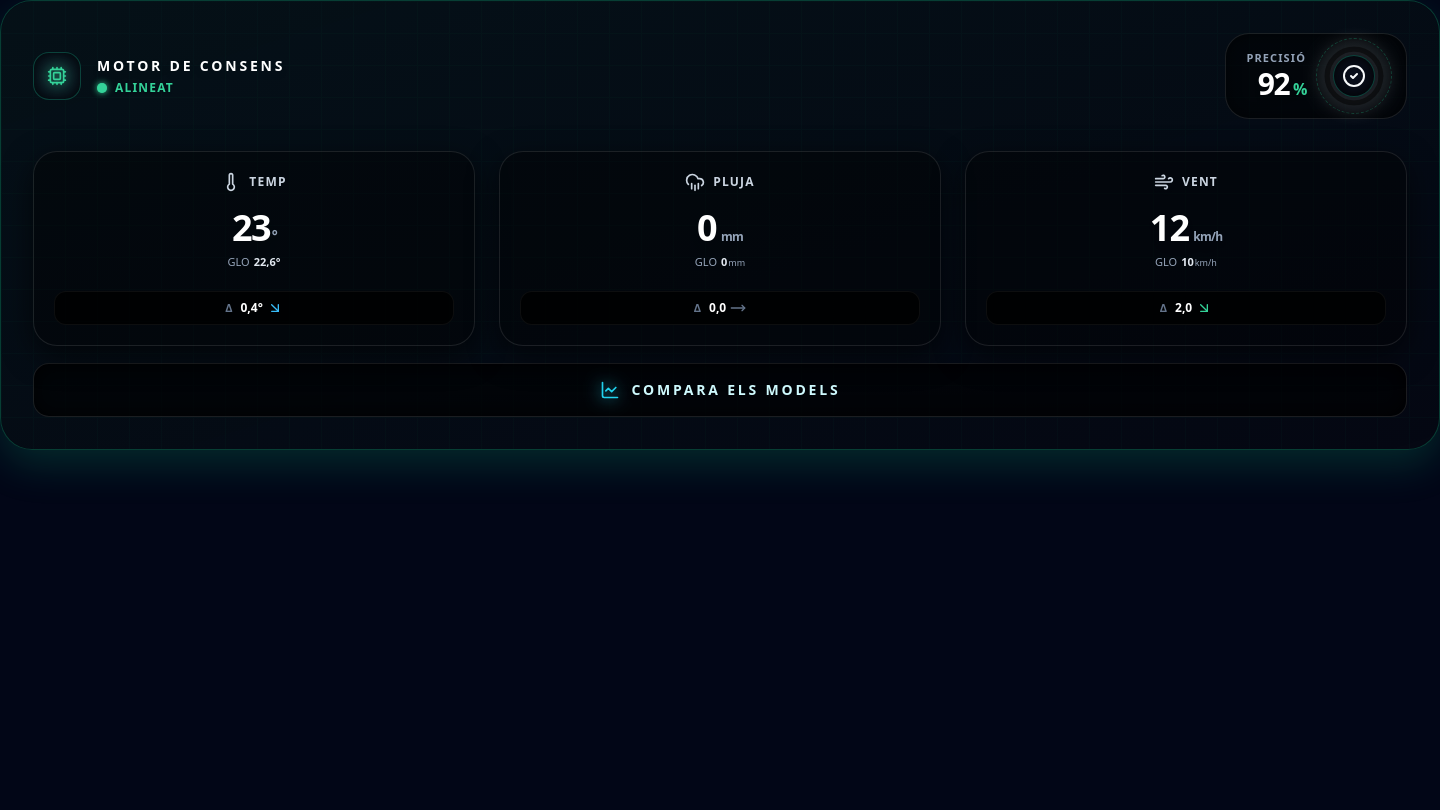
Test: ConsensusWidget — modals fora del tauler › en tancar-la (Esc), el modal desapareix i el scroll de la pàgina torna
The image size is (1440, 810).
Click the button "Compara els models" at (720, 390), box left=33, top=363, right=1407, bottom=417
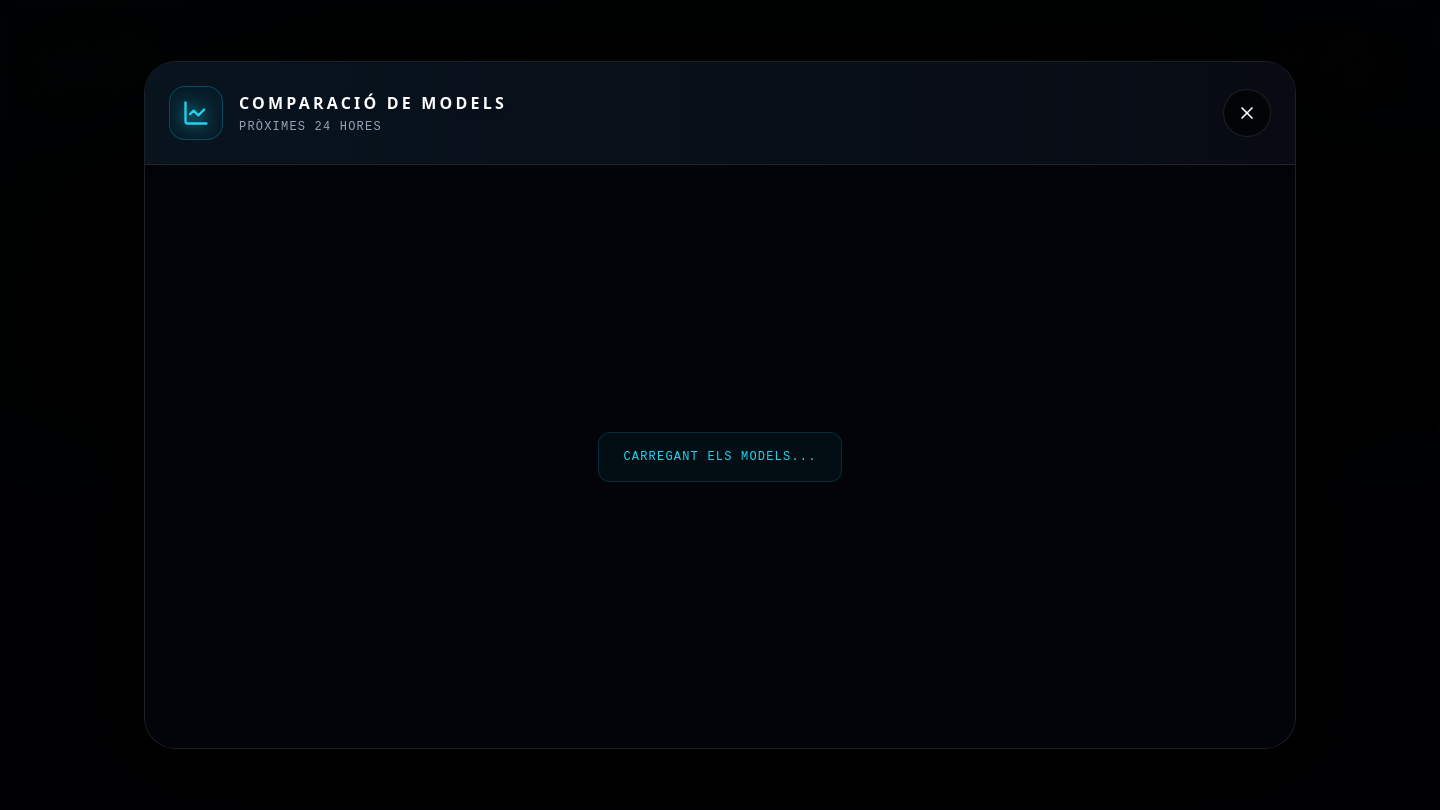
Press Escape
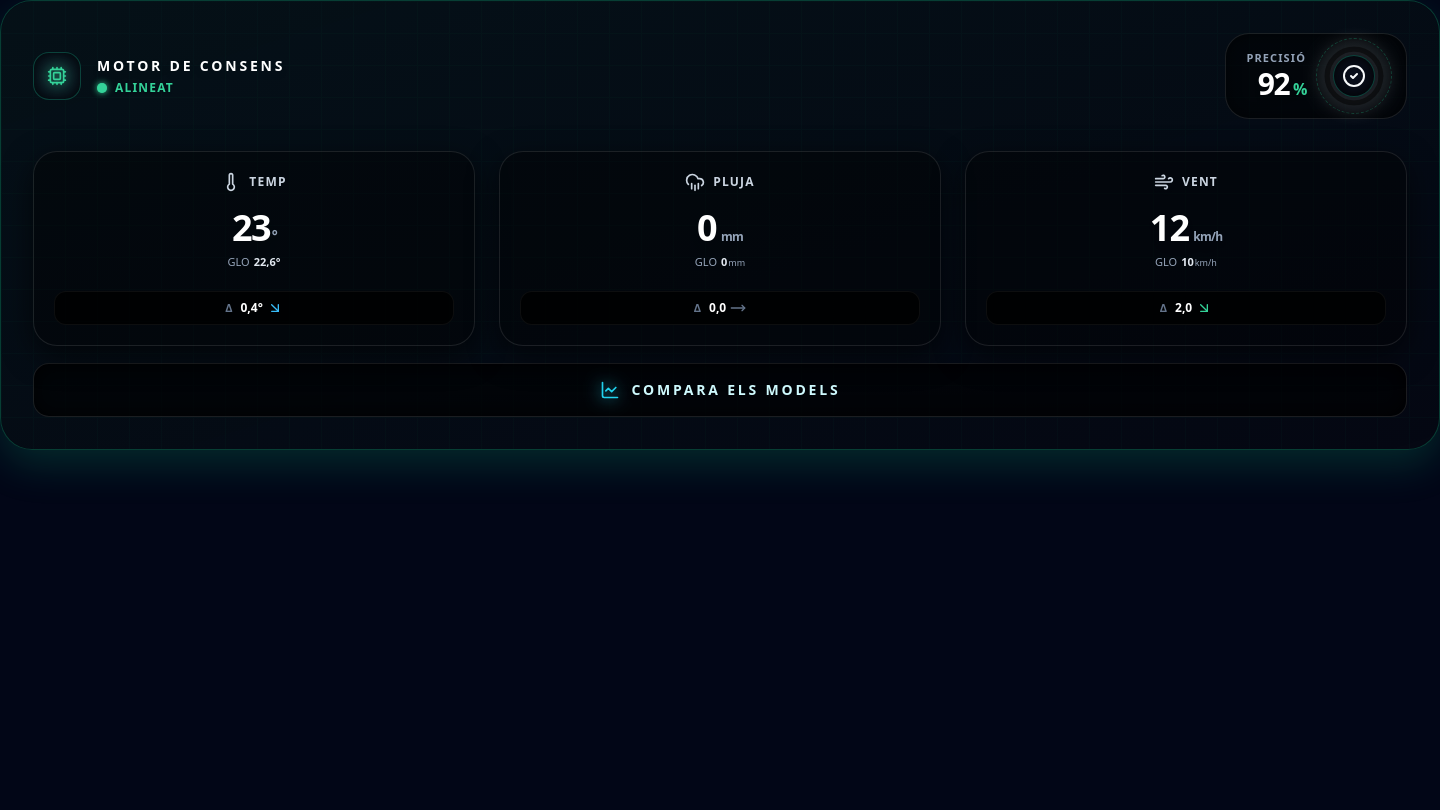
Check: the heading "Comparació de models" is gone
